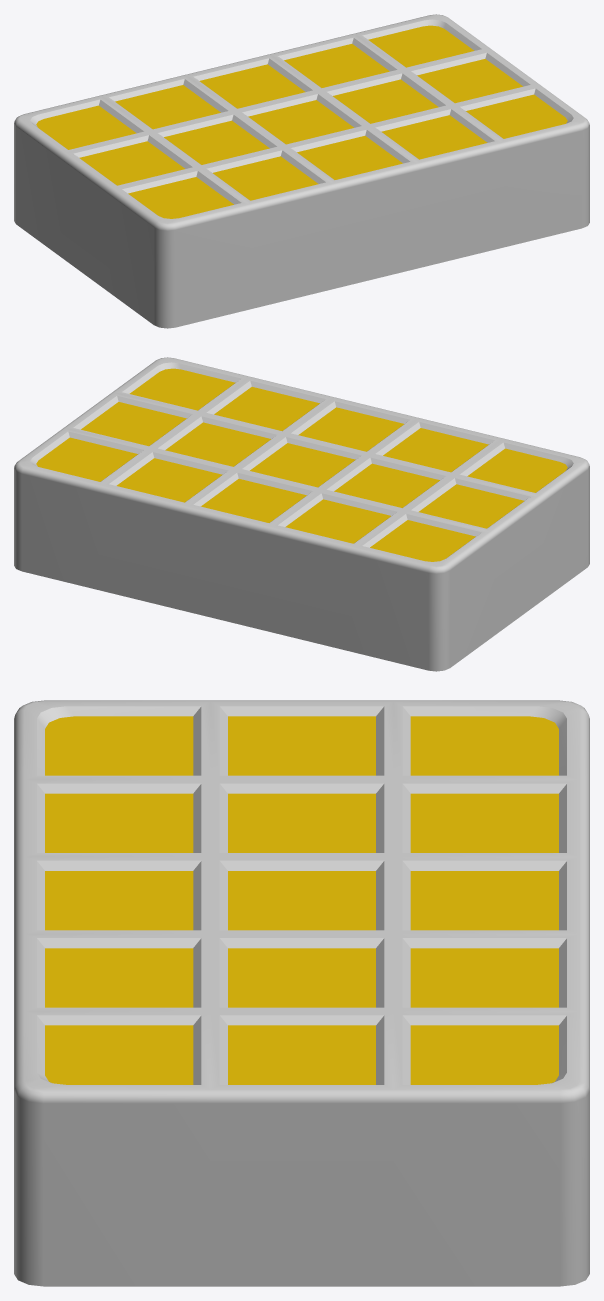
File: Merge_5x3.fbx
3 renders of one model, top to bottom at view 1: azimuth 30°, elevation 25°; view 2: azimuth 150°, elevation 25°; view 3: azimuth 270°, elevation 25°, orthographic. The views are drawn at different scales.
Visible parts, largest first — view 1: pCube9; view 2: pCube9; view 3: pCube9.
Boxes of the visible parts, x1,y1,x2,y2 form: pCube9: (14, 14, 589, 328); pCube9: (14, 357, 589, 671); pCube9: (14, 700, 589, 1286).
Bounding box in the file's own units: 514 × 116 × 315.
